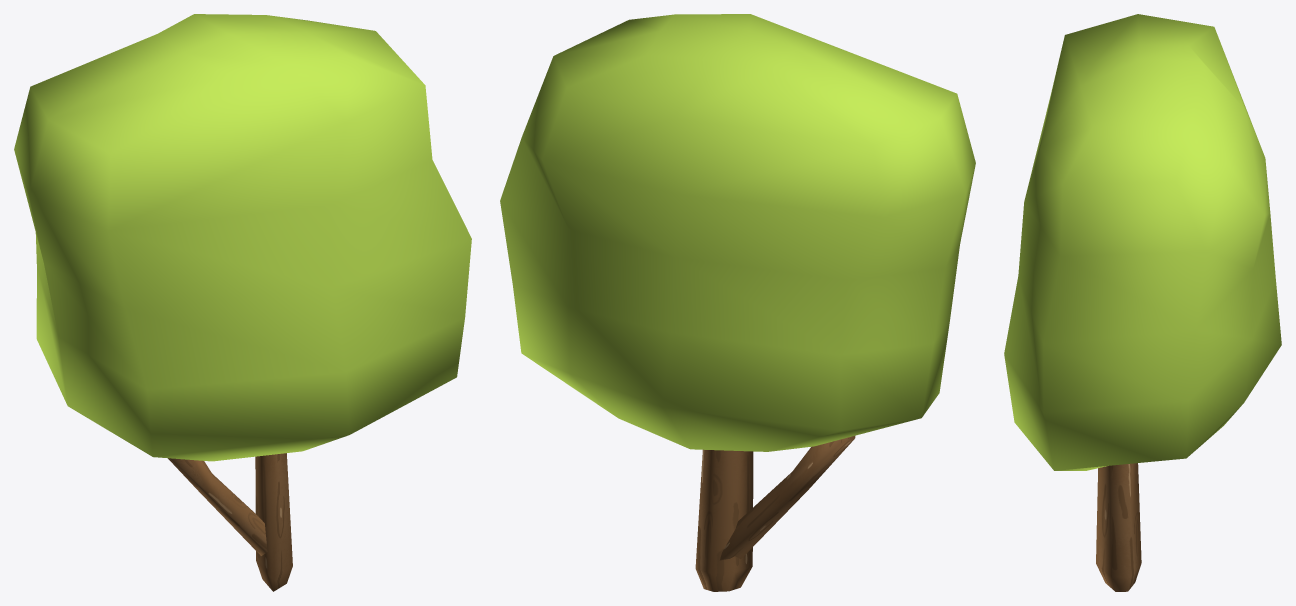
File: Bush1.fbx
The picture shows the model from 3 angles, left to right: view 1: azimuth 30°, elevation 25°; view 2: azimuth 150°, elevation 25°; view 3: azimuth 270°, elevation 25°; orthographic projection. The views are drawn at different scales.
Visible parts, largest first — view 1: Cylinder.038; view 2: Cylinder.038; view 3: Cylinder.038.
Part boxes in pixels (bbox=[...]): Cylinder.038: bbox=[14, 14, 471, 591]; Cylinder.038: bbox=[500, 14, 975, 591]; Cylinder.038: bbox=[1004, 14, 1281, 591].
Bounding box in the file's own units: 1112 × 1428 × 702.
